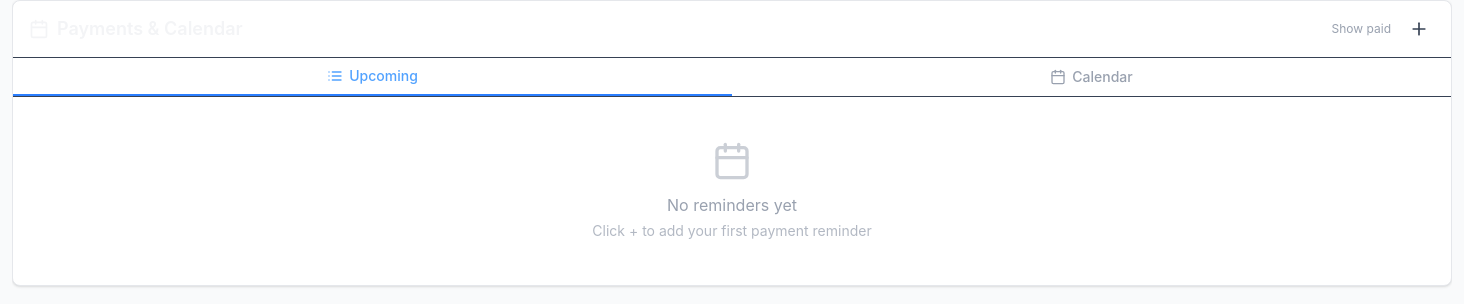
Test case: RemindersWidget › header › toggles the show-paid label between "Show paid" and "Hide paid"
This screenshot has width=1464, height=304.
What coordinates should you click on to do the following:
click the button "Show paid"
I would click on:
 (1361, 29)
Its box is [1324,17,1399,41].
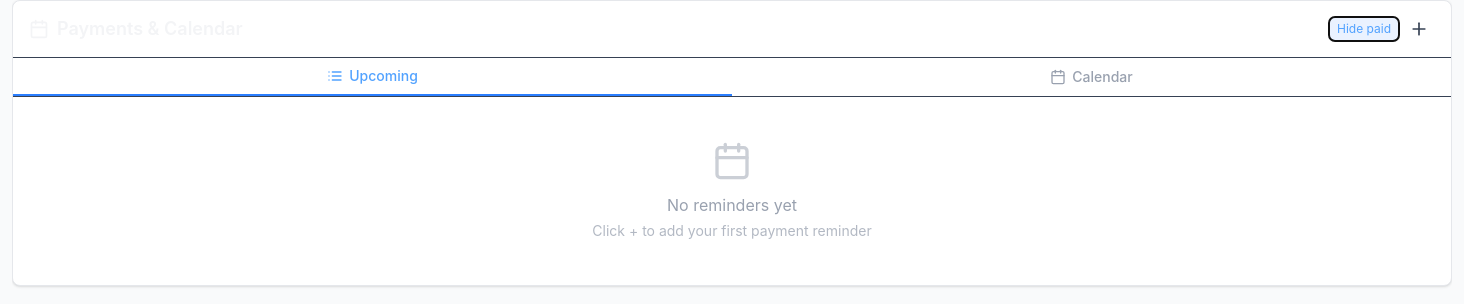
Check: the button "Hide paid" is shown, box [1329,17,1399,41]
